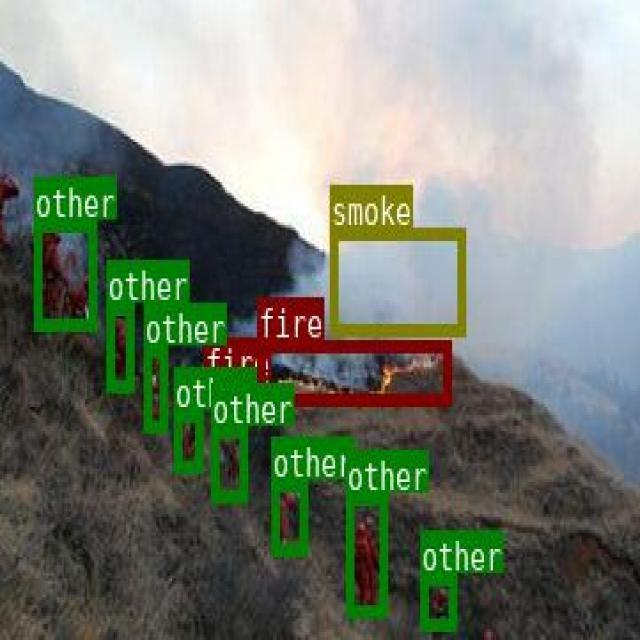fire: (257, 340, 450, 403), (202, 379, 247, 406)
smoke: (329, 225, 464, 332)
